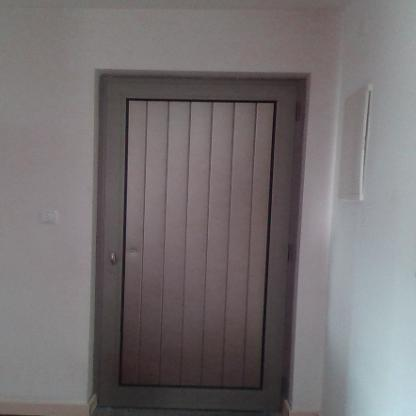door: (104, 83, 287, 408)
hinged: (292, 99, 303, 123), (284, 241, 295, 262)
knob: (108, 250, 118, 266)
